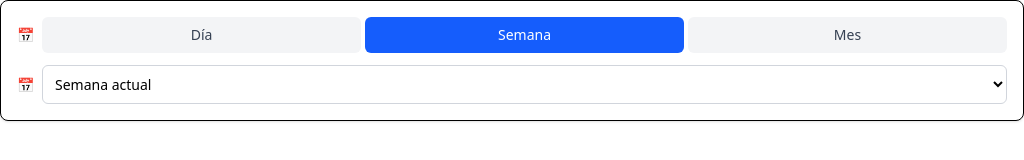
it: CompactFilters › generates month options for the last 6 months
Click the button "Mes".
click(848, 35)  # box [688,17,1007,53]
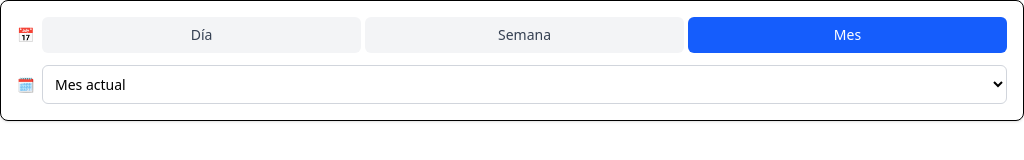
Check: the dropdown showing "Mes actual" is shown, box [42,65,1007,104]
